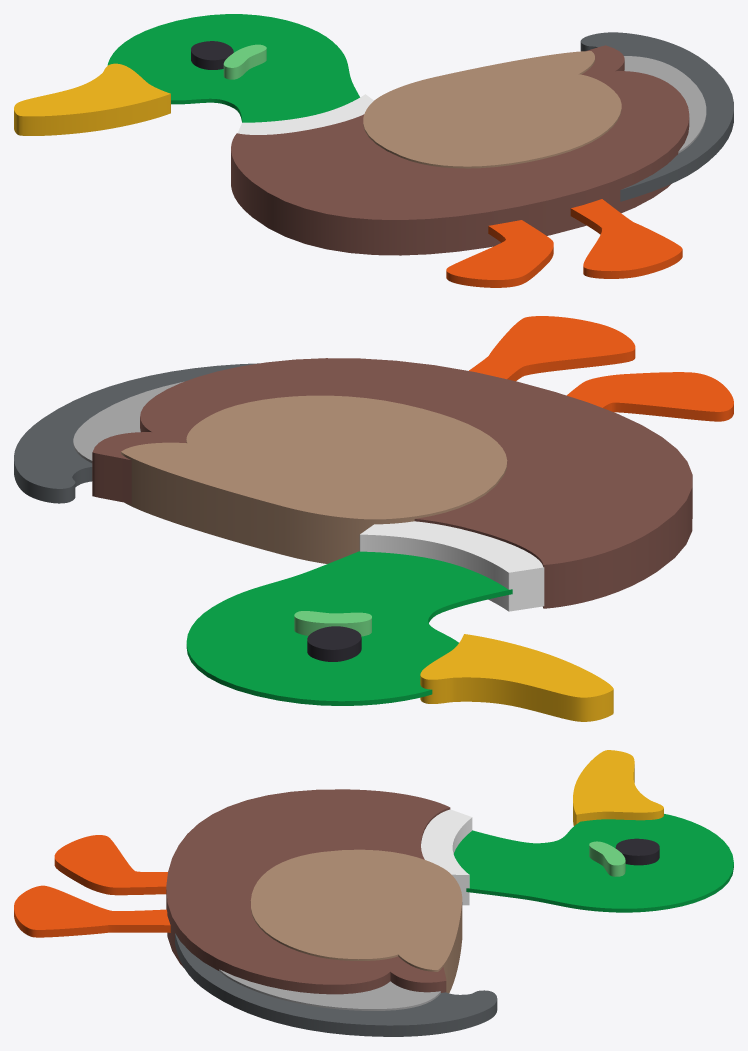
Rendered from emoji_u1f986.glb.
The picture shows the model from 3 angles, top to bottom: view 1: azimuth 30°, elevation 25°; view 2: azimuth 150°, elevation 25°; view 3: azimuth 270°, elevation 25°; orthographic projection. The views are drawn at different scales.
Parts seen in each view (by area): view 1: emoji_u1f986; view 2: emoji_u1f986; view 3: emoji_u1f986.
Part boxes in pixels (x1,y1,x2,y2): emoji_u1f986: [14, 14, 733, 287]; emoji_u1f986: [14, 316, 733, 721]; emoji_u1f986: [14, 750, 733, 1036].
Bounding box in the file's own units: 0.0306 × 0.002 × 0.0343.
